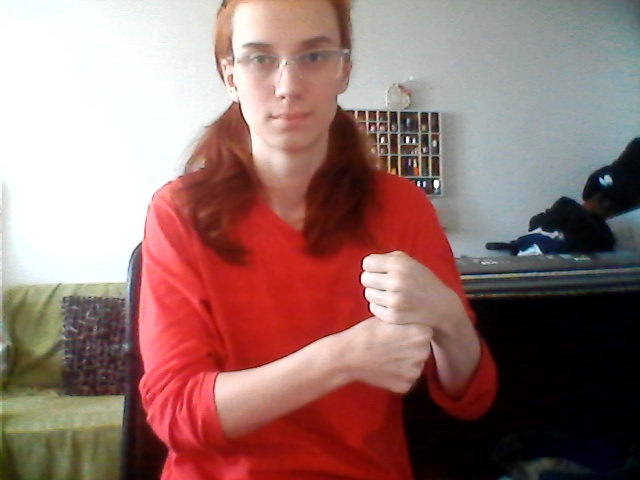g: (339, 244, 445, 413)
